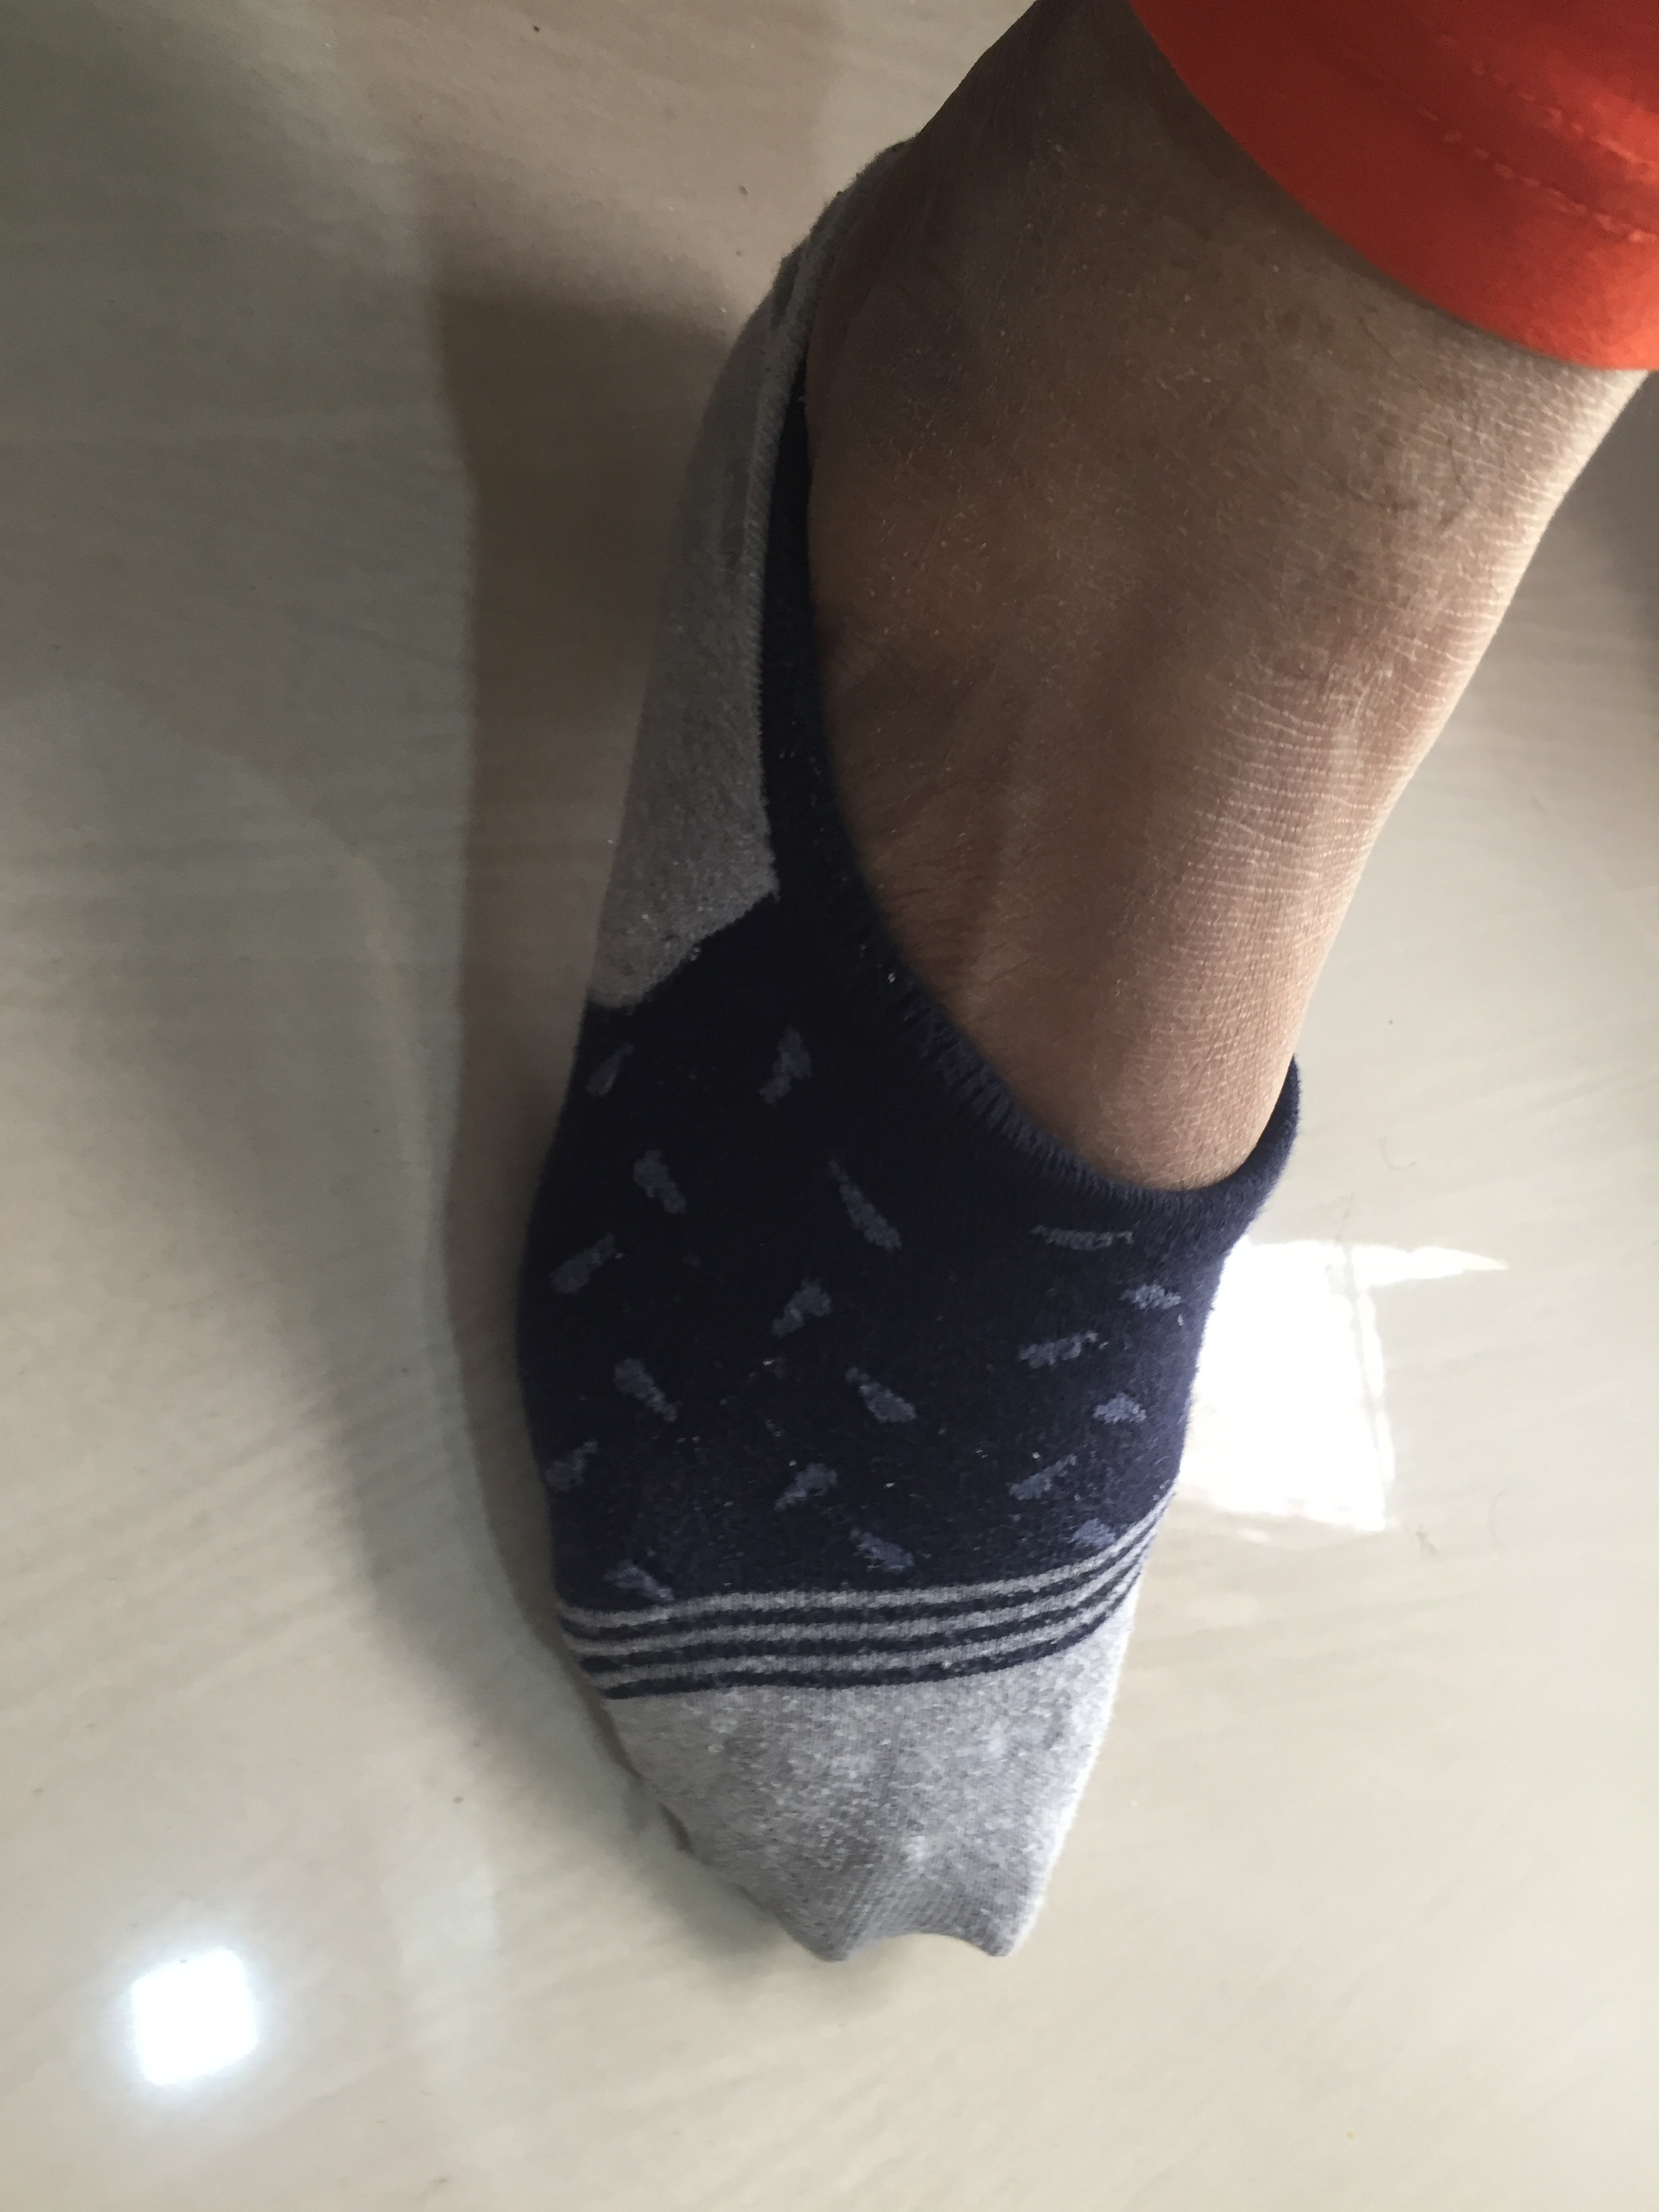feet: (493, 31, 1518, 1989)
